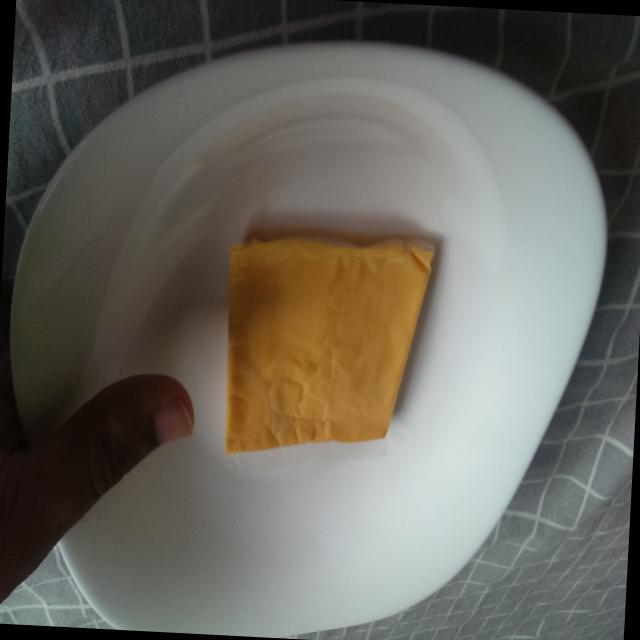Cheese: (215, 210, 445, 473)
Finger: (86, 360, 202, 522)
